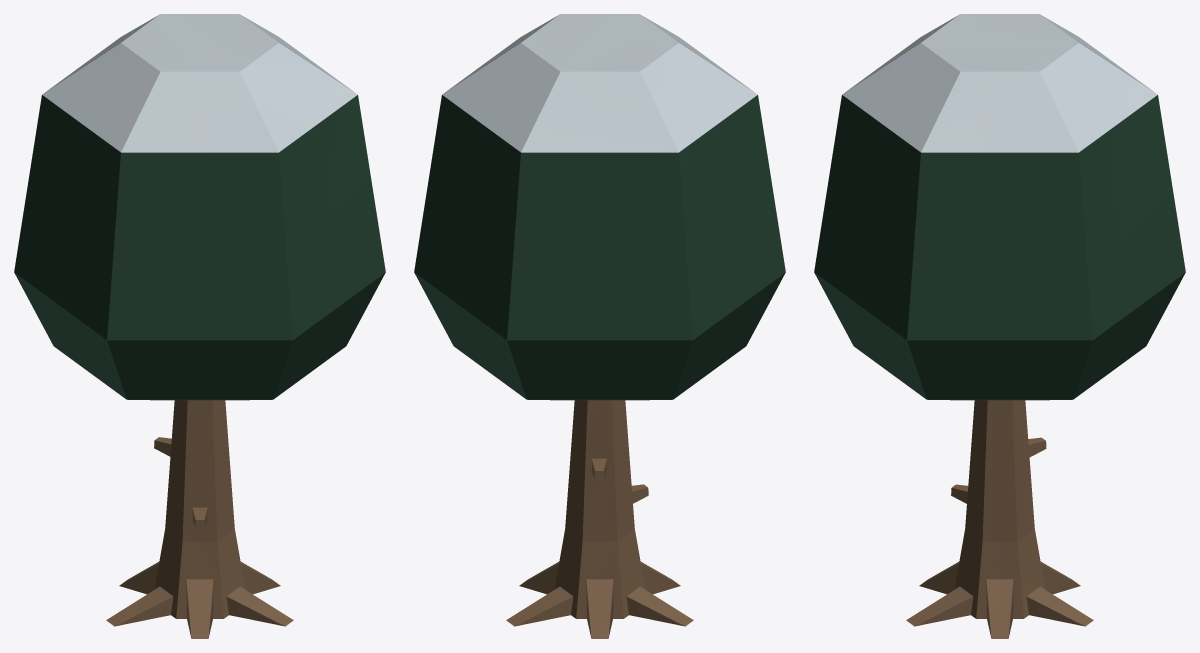
Rendered from tree_oak.glb.
3 views of the same model, side by side, from view 1: azimuth 30°, elevation 25°; view 2: azimuth 150°, elevation 25°; view 3: azimuth 270°, elevation 25° (orthographic).
Visible parts, largest first — view 1: tree_oak; view 2: tree_oak; view 3: tree_oak.
Part boxes in pixels (x1=…): tree_oak: x1=14, y1=14, x2=385, y2=638; tree_oak: x1=414, y1=14, x2=785, y2=638; tree_oak: x1=814, y1=14, x2=1185, y2=638.
Size of the model in its own units: 0.6406 by 1.23 by 0.7396.
